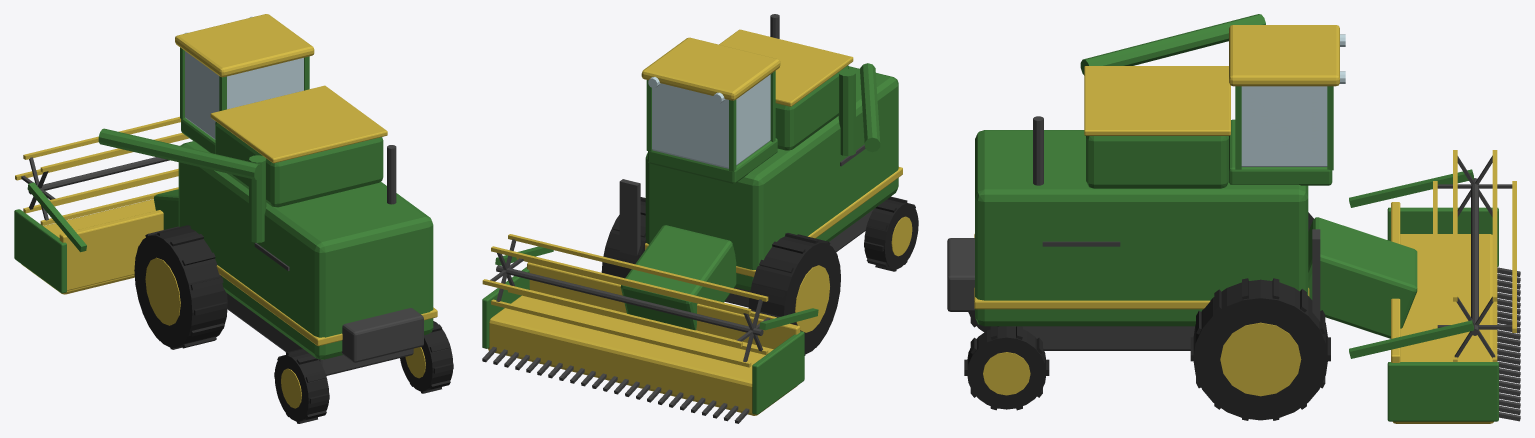
File: bicerdover.glb
3 renders of one model, left to right at view 1: azimuth 30°, elevation 25°; view 2: azimuth 150°, elevation 25°; view 3: azimuth 270°, elevation 25°, orthographic. The views are drawn at different scales.
Visible parts, largest first — view 1: BoruDik; view 2: BoruDik; view 3: BoruDik.
Part boxes in pixels (<box>): BoruDik: <box>14,14,453,423</box>; BoruDik: <box>482,14,918,423</box>; BoruDik: <box>947,14,1520,423</box>.
Size of the model in its own units: 0.6957 by 0.6154 by 1.
